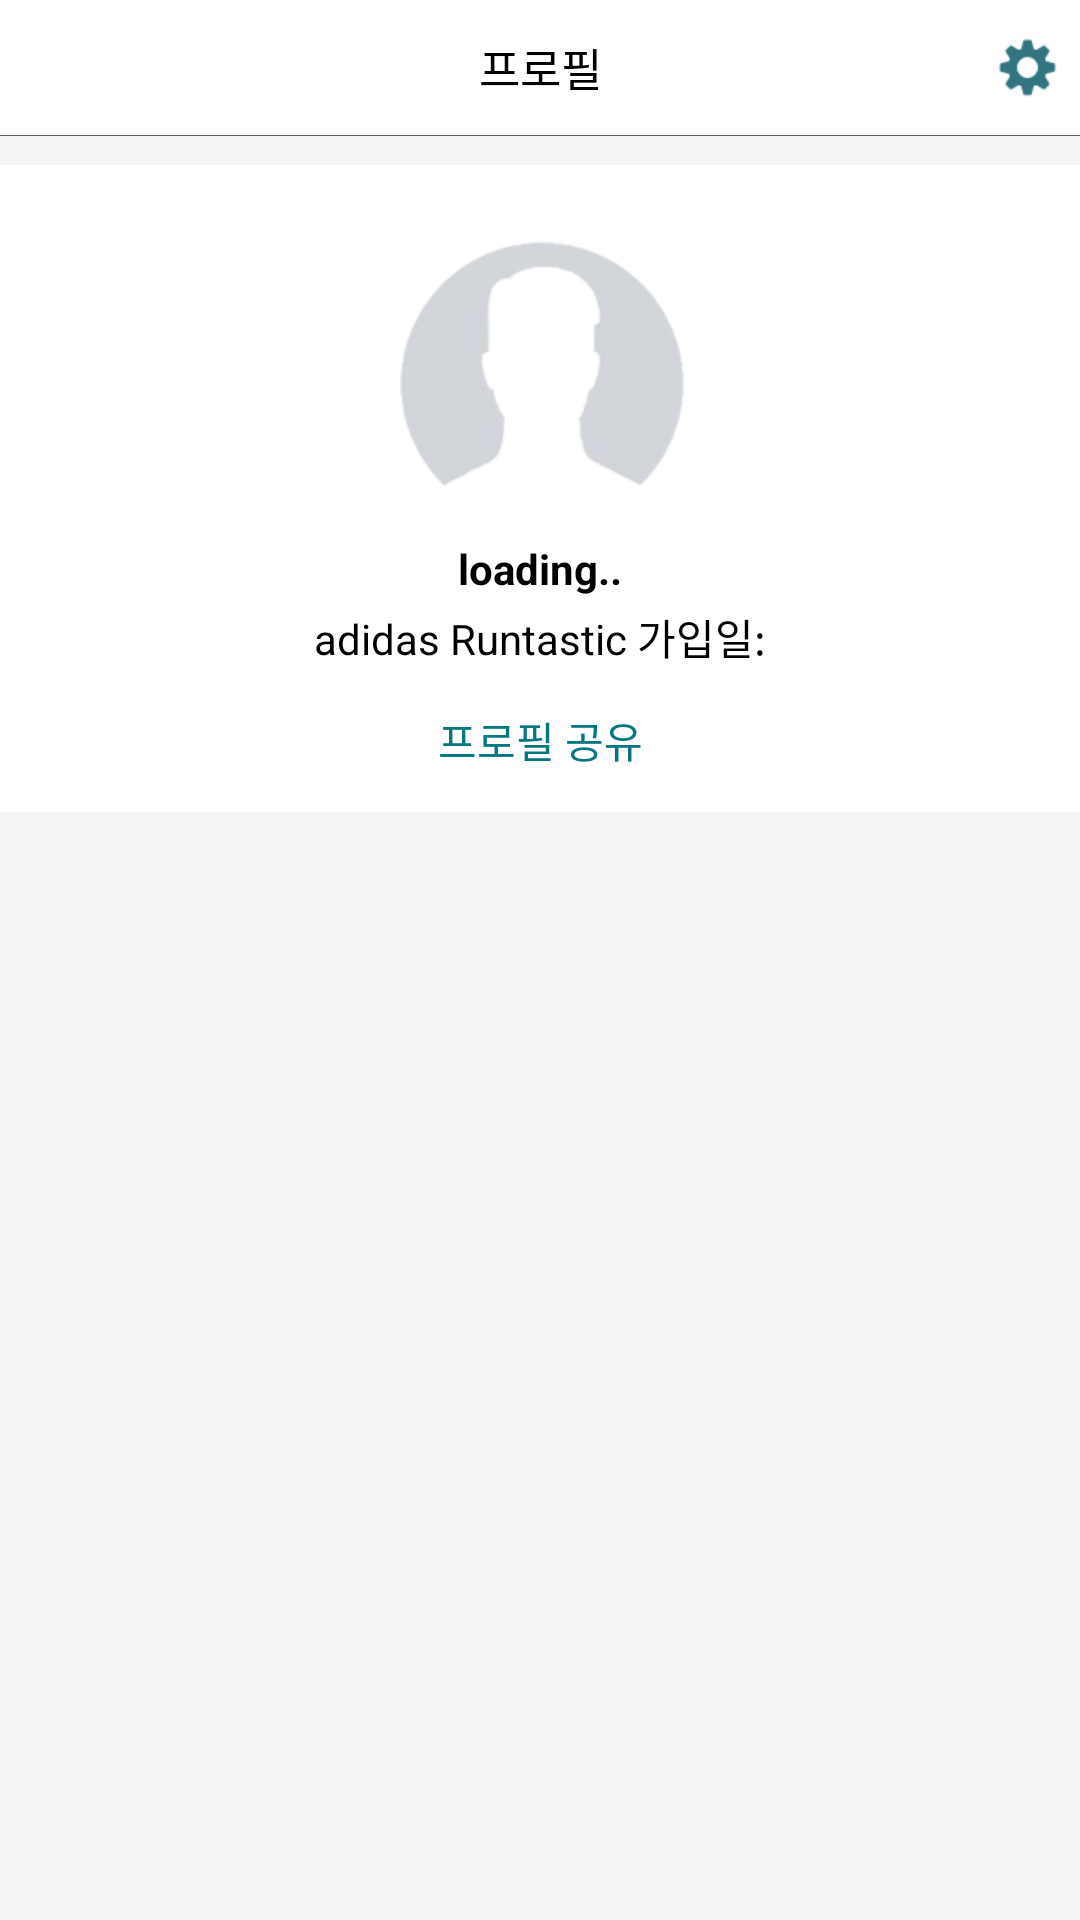

Where icons sit on this 1080×1920 app screen, as (x1, y1, x2, y2):
profile common: (401, 243, 683, 485)
setting: (999, 39, 1056, 96)
